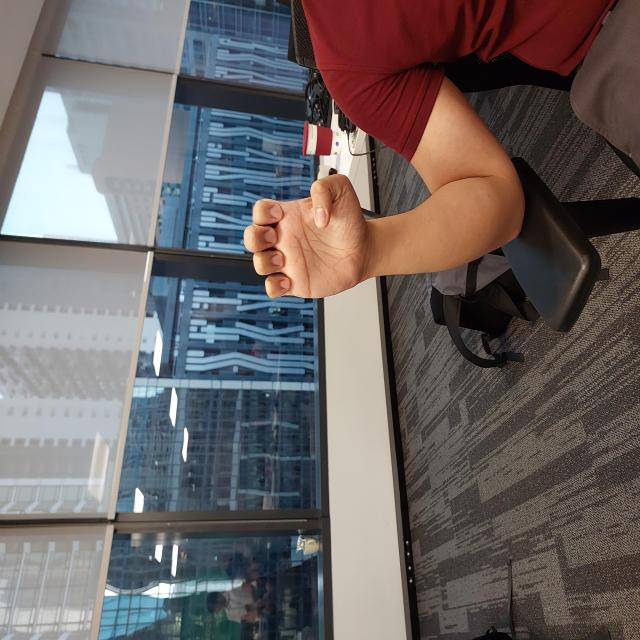E: (339, 242, 468, 376)
